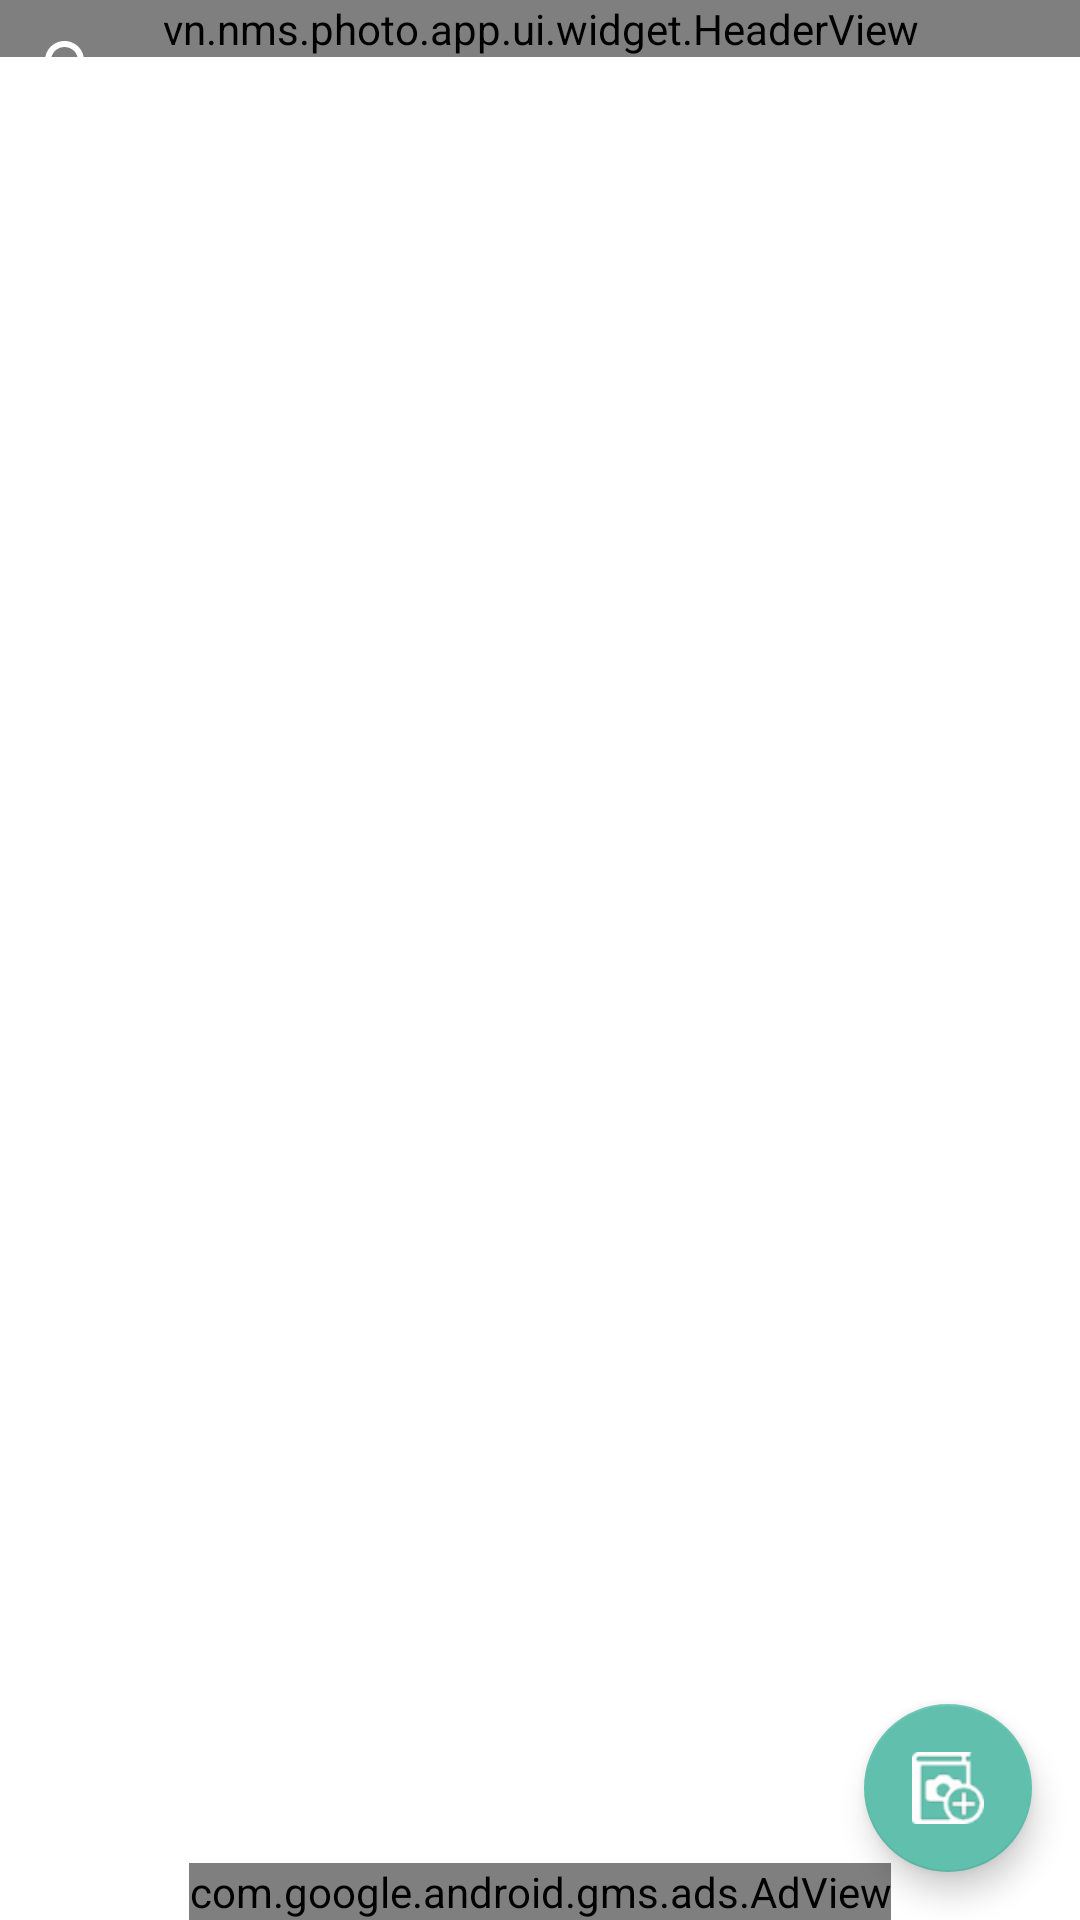

Where icons sit on this 1080w x 1920h app screen, as (x1,y1,x2,y2):
add gallery: (864,1704,1032,1872)
